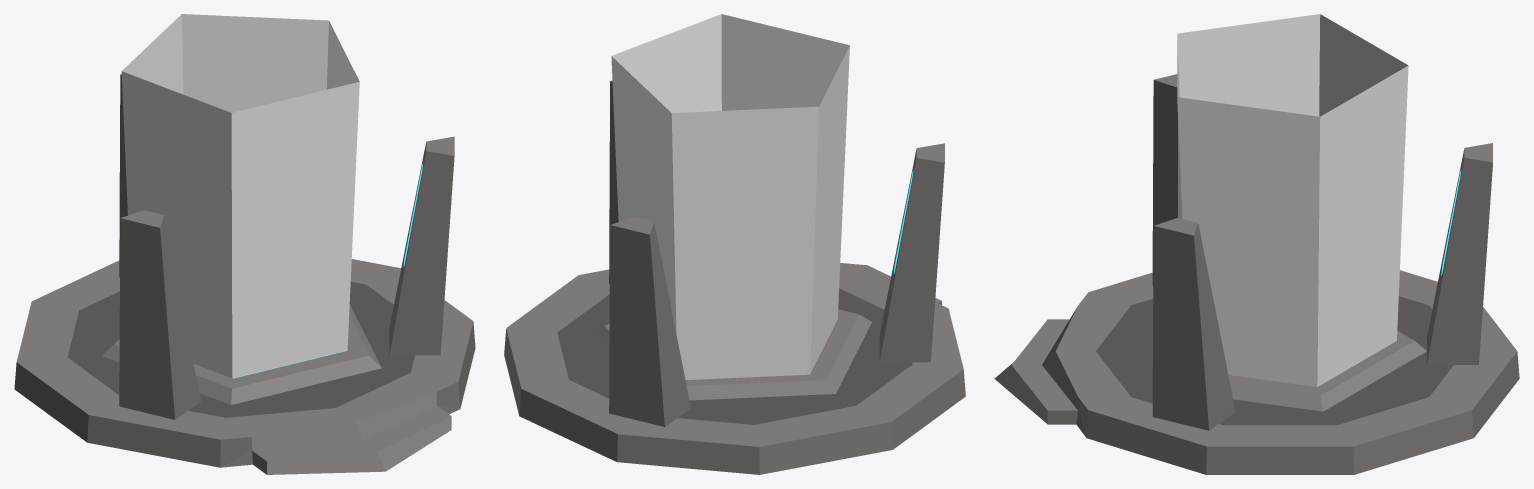
Rendered from scifi_scifi-teleport.fbx.
3 renders of one model, left to right at view 1: azimuth 30°, elevation 25°; view 2: azimuth 150°, elevation 25°; view 3: azimuth 270°, elevation 25°, orthographic.
Parts seen in each view (by area): view 1: scifi_scifi_teleport; view 2: scifi_scifi_teleport; view 3: scifi_scifi_teleport.
Part boxes in pixels (left/top/right/bottom): scifi_scifi_teleport: left=14, top=14, right=475, bottom=474; scifi_scifi_teleport: left=504, top=14, right=965, bottom=474; scifi_scifi_teleport: left=994, top=14, right=1519, bottom=474.
Size of the model in its own units: 173 by 132 by 200.
4 materials, 1 textured.
